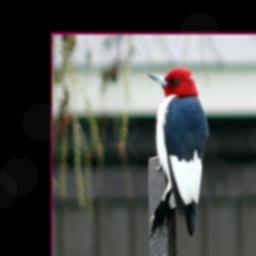Woodpecker: (146, 61, 210, 242)
